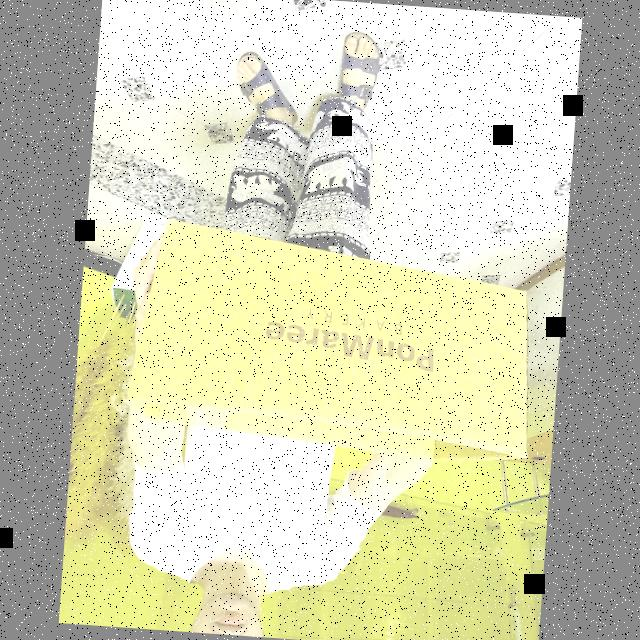cardboard_box: (115, 209, 551, 485)
